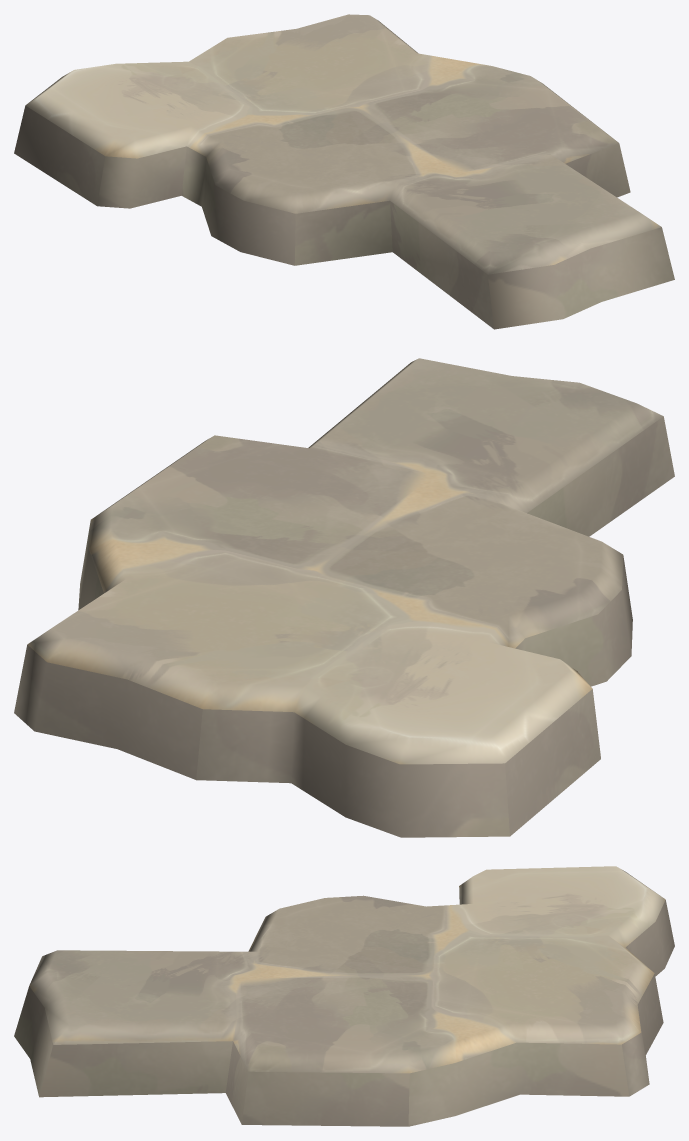
The model's file is SM_floortiles_small_01.fbx.
The picture shows the model from 3 angles, top to bottom: view 1: azimuth 30°, elevation 25°; view 2: azimuth 150°, elevation 25°; view 3: azimuth 270°, elevation 25°; orthographic projection. The views are drawn at different scales.
Visible parts, largest first — view 1: Object33214; view 2: Object33214; view 3: Object33214.
Boxes of the visible parts, box(x1,y1,x2,y2) form: Object33214: box(14, 14, 674, 329); Object33214: box(14, 358, 674, 837); Object33214: box(14, 866, 674, 1126).
Bounding box in the file's own units: 16.35 × 2.24 × 21.78.
